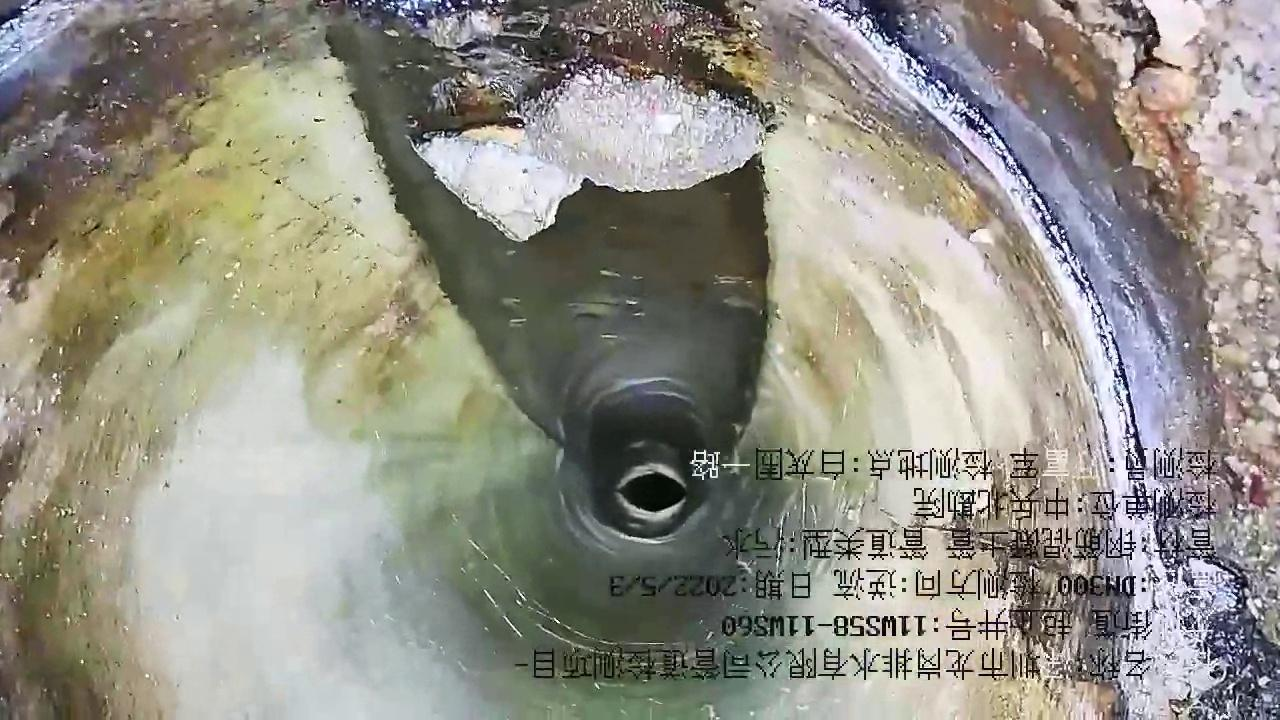ZAW: (413, 67, 765, 241)
